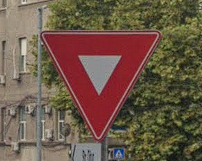cedeaza: (38, 26, 165, 142)
